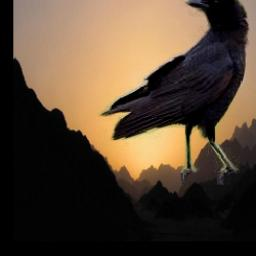Crow: (98, 0, 251, 185)
